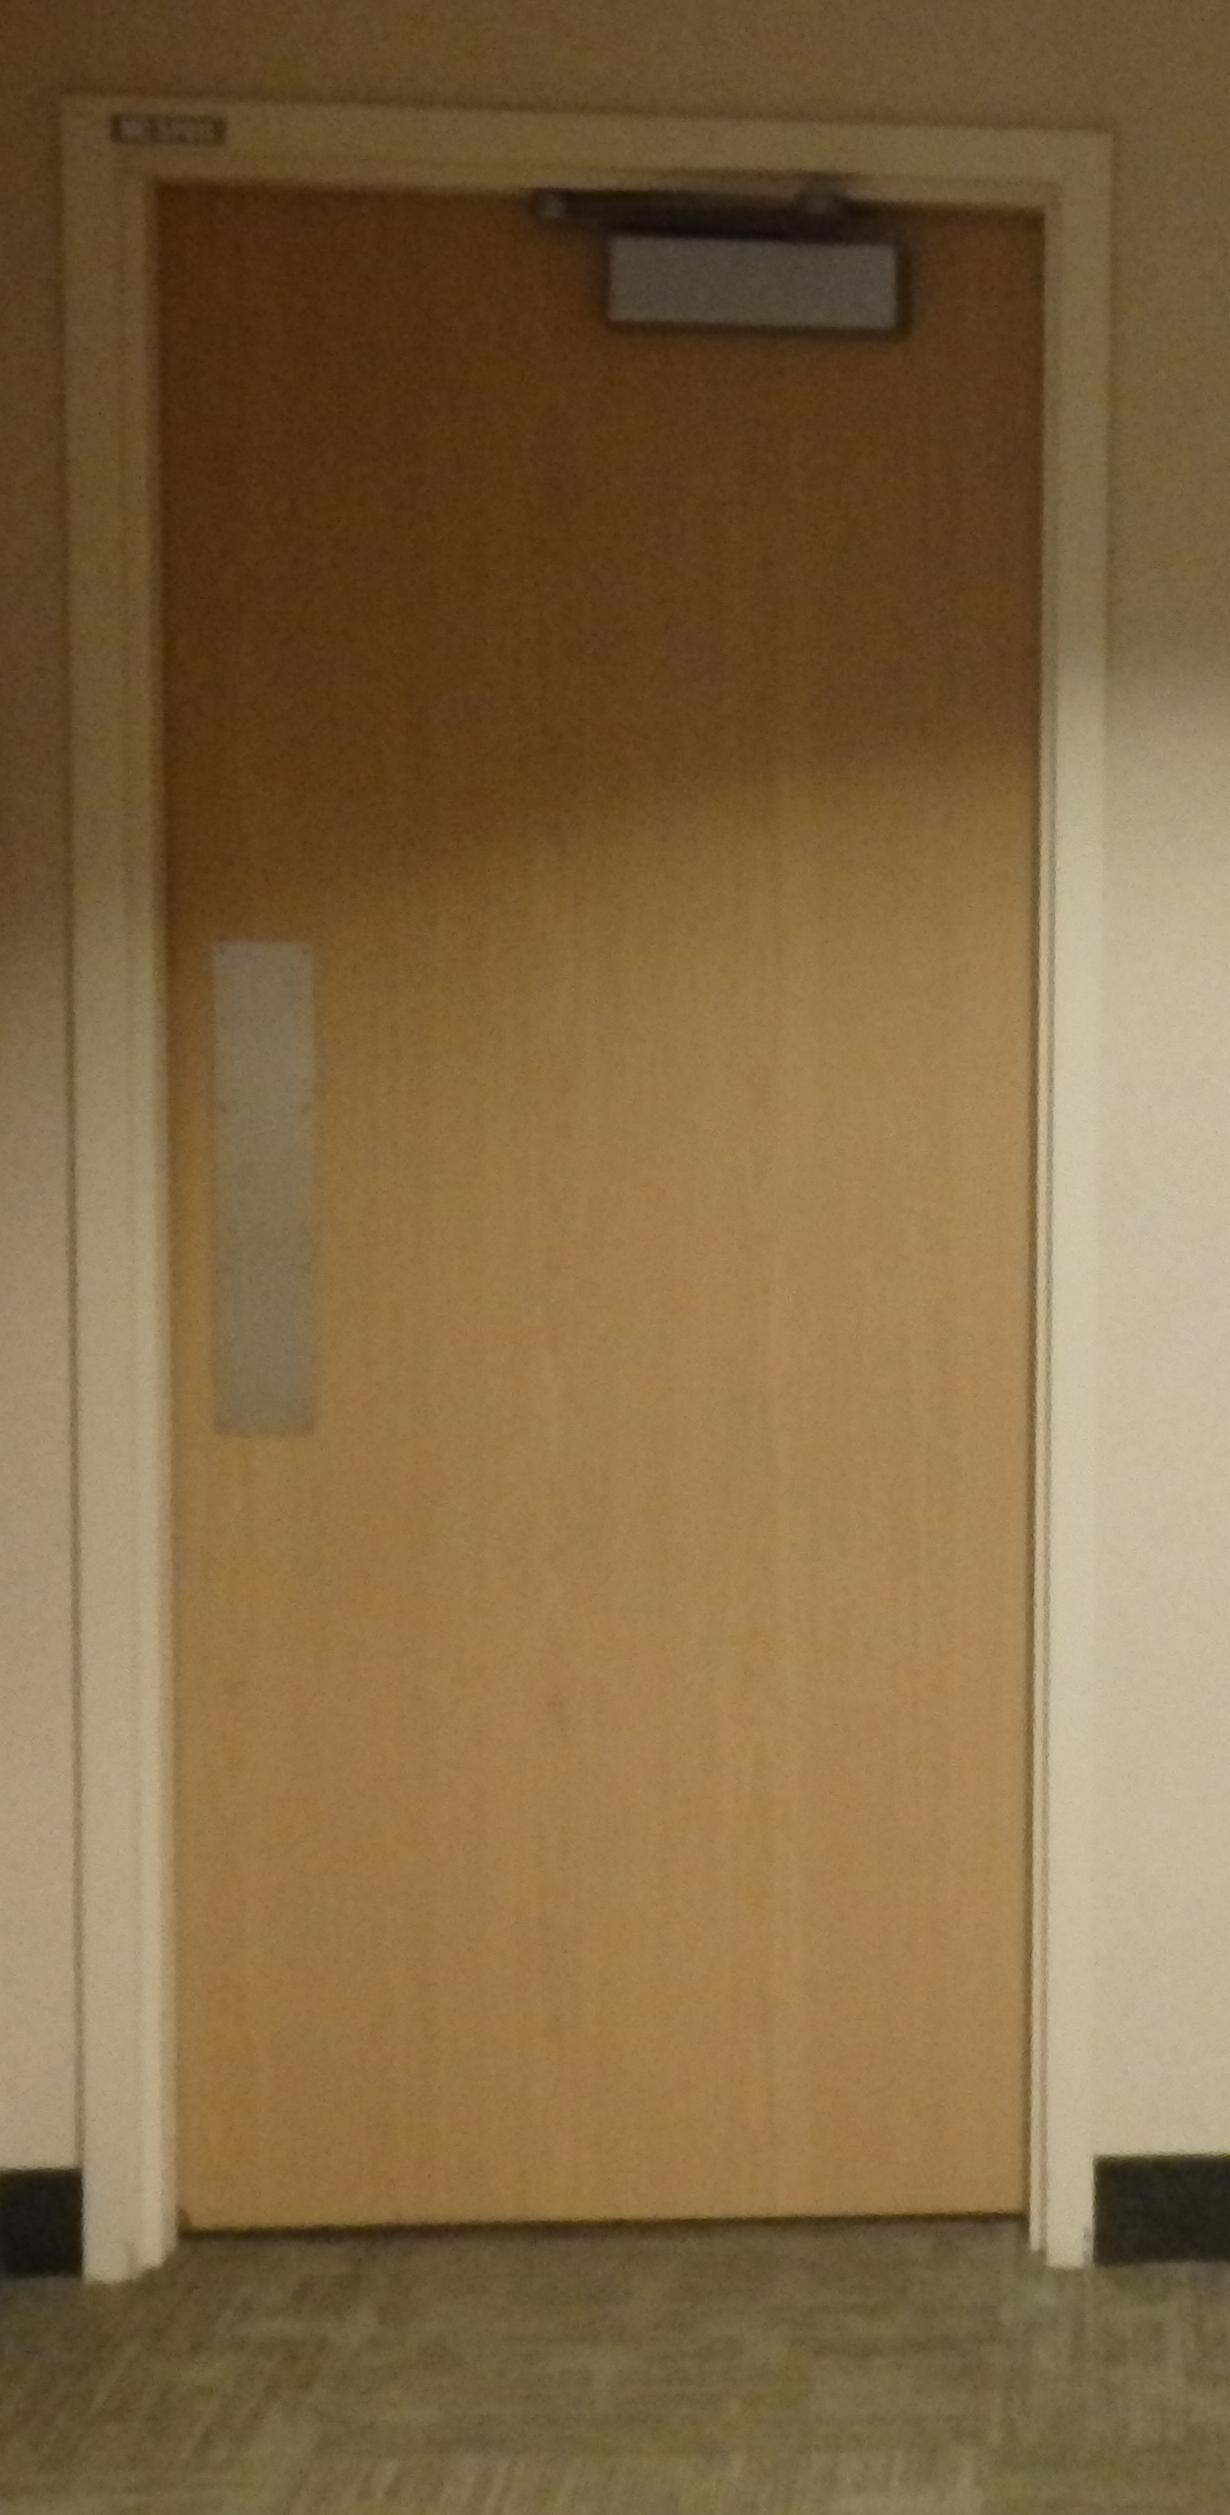door: (143, 152, 1050, 2247)
